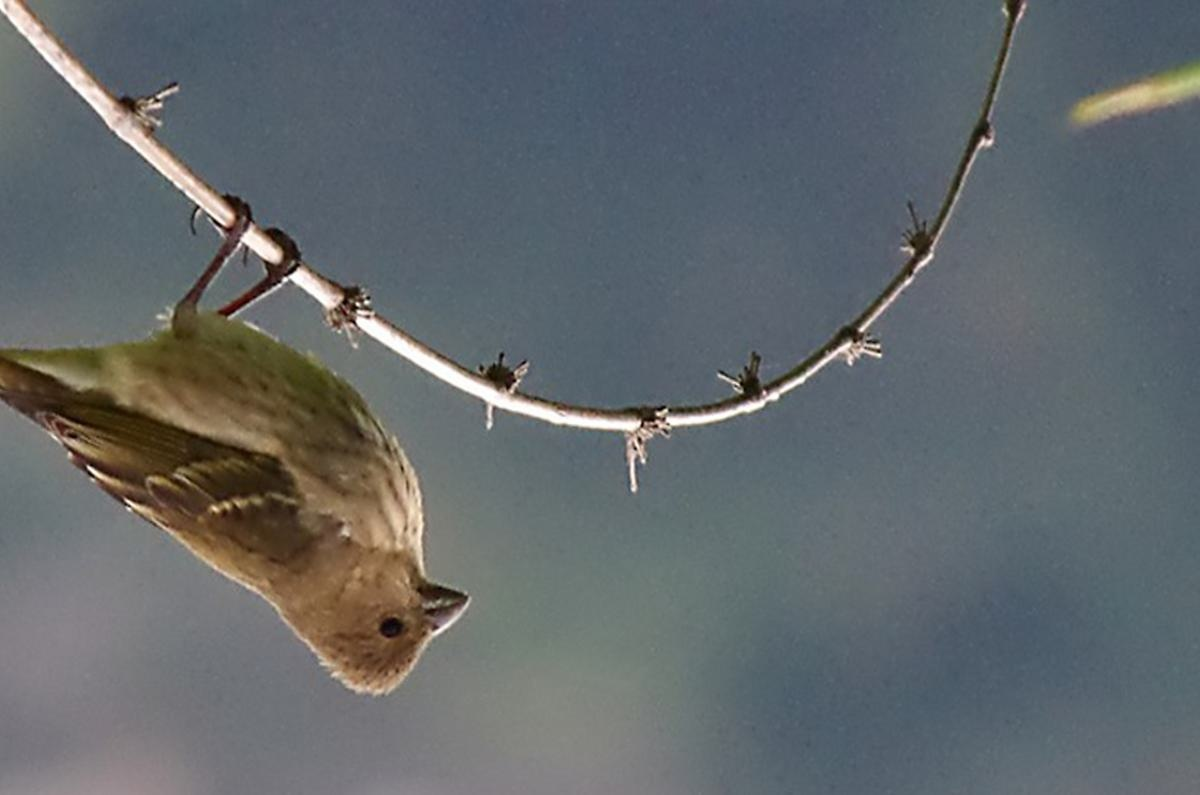rosefinch: (65, 184, 483, 708)
